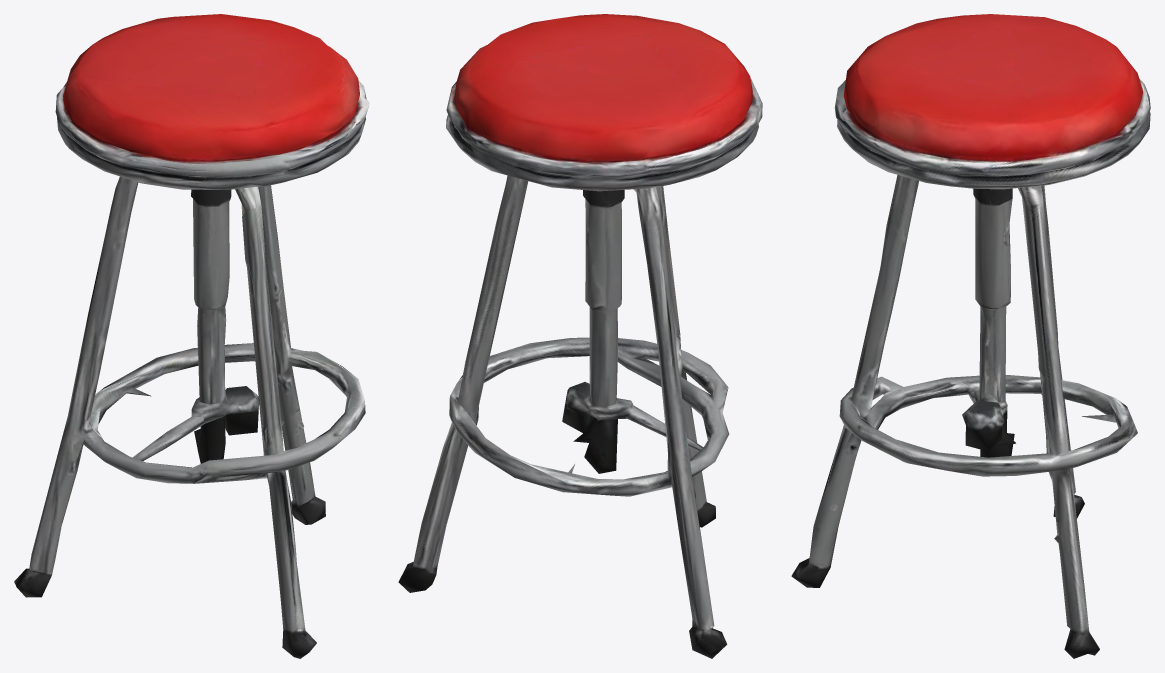
File: bar-stool.glb
3 renders of one model, left to right at view 1: azimuth 30°, elevation 25°; view 2: azimuth 150°, elevation 25°; view 3: azimuth 270°, elevation 25°, orthographic.
Visible parts, largest first — view 1: tripo_node_9499aedd-b29e-4f61-bef2-4da87df89bb0; view 2: tripo_node_9499aedd-b29e-4f61-bef2-4da87df89bb0; view 3: tripo_node_9499aedd-b29e-4f61-bef2-4da87df89bb0.
Part boxes in pixels (x1,y1,x2,y2): tripo_node_9499aedd-b29e-4f61-bef2-4da87df89bb0: [14, 14, 369, 658]; tripo_node_9499aedd-b29e-4f61-bef2-4da87df89bb0: [398, 14, 762, 658]; tripo_node_9499aedd-b29e-4f61-bef2-4da87df89bb0: [791, 14, 1150, 658].
Bounding box in the file's own units: 0.6242 × 1 × 0.6194.
1 material, 1 textured.
